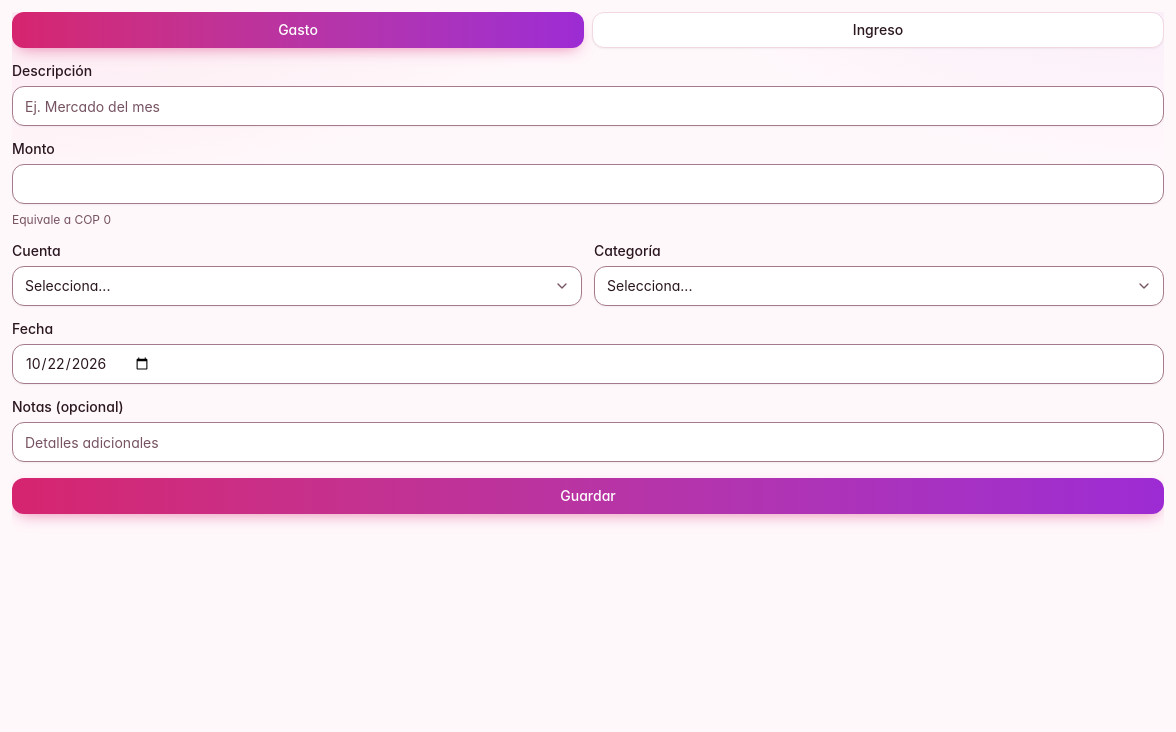
Scenario: TransactionForm › exige descripción, monto, cuenta y categoría antes de enviar
Click the button "Guardar" at (588, 496), box [12,478,1164,514]
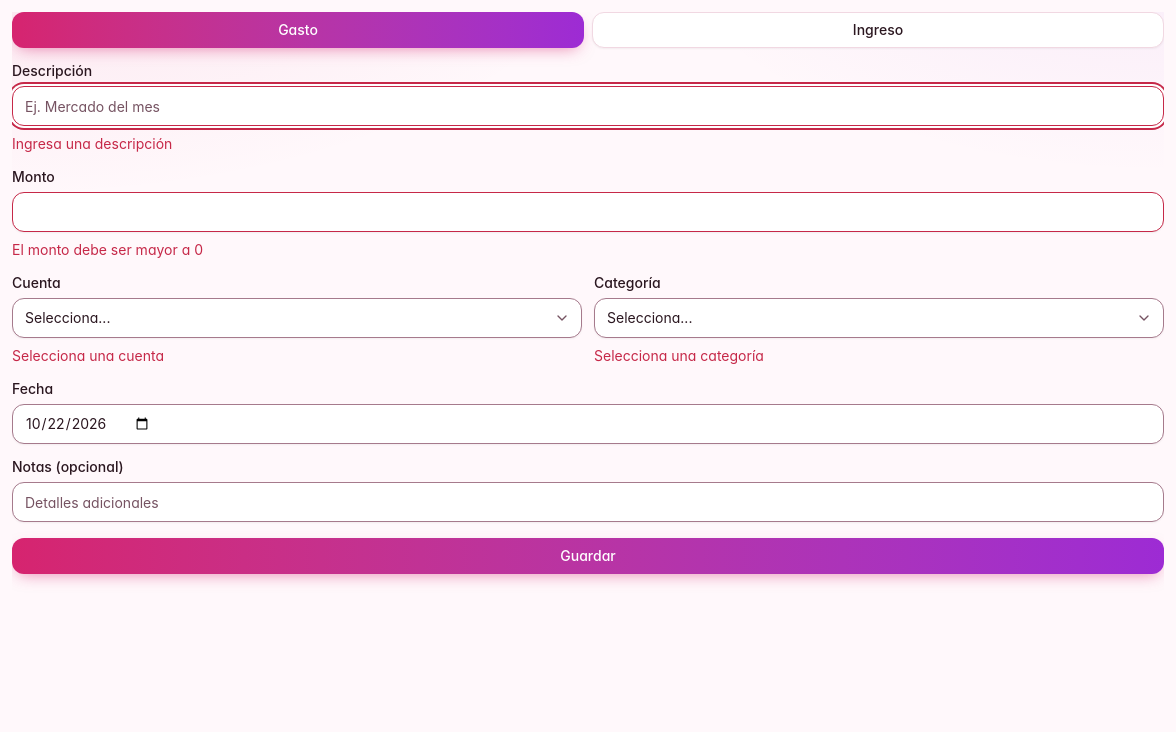
Expected: the text "Ingresa una descripción" is shown, [12,135,172,152]
Expected: the text "El monto debe ser mayor a 0" is shown, [12,241,203,258]
Expected: the text "Selecciona una cuenta" is shown, [12,347,164,364]
